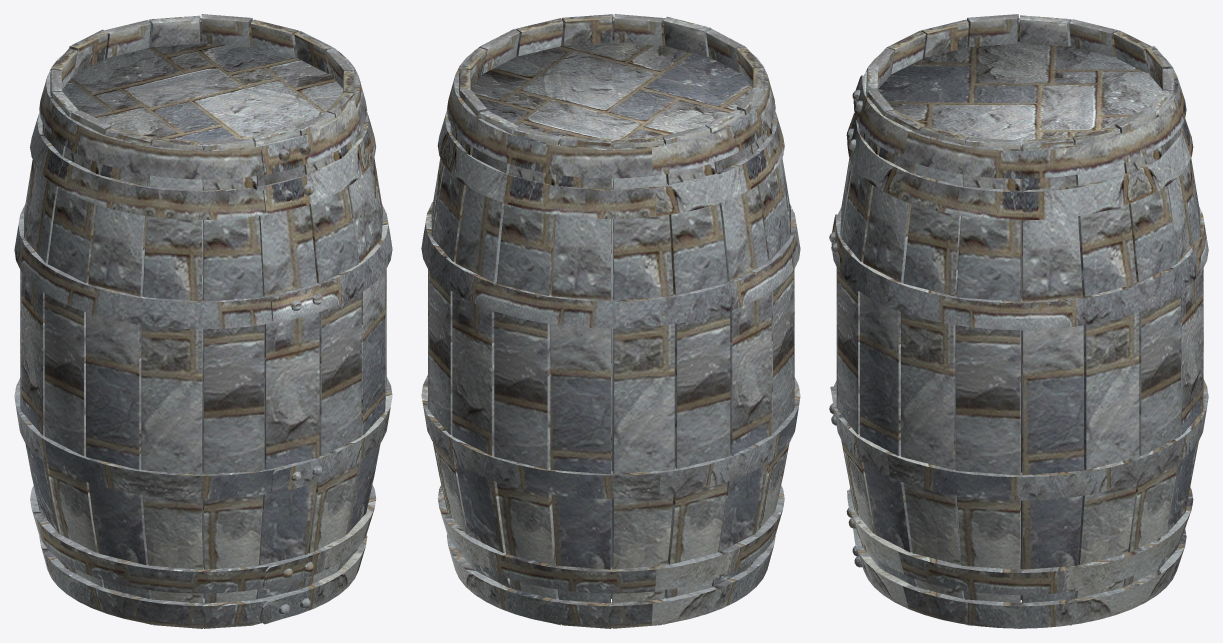
The model's file is barrel.fbx.
3 views of the same model, side by side, from view 1: azimuth 30°, elevation 25°; view 2: azimuth 150°, elevation 25°; view 3: azimuth 270°, elevation 25° (orthographic).
Visible parts, largest first — view 1: obj0; view 2: obj0; view 3: obj0.
Part boxes in pixels (left/top/right/bottom): obj0: left=14, top=14, right=392, bottom=628; obj0: left=421, top=14, right=800, bottom=628; obj0: left=829, top=14, right=1208, bottom=628.
Bounding box in the file's own units: 2.72 × 3.85 × 2.72.
3 materials, 3 textured.
